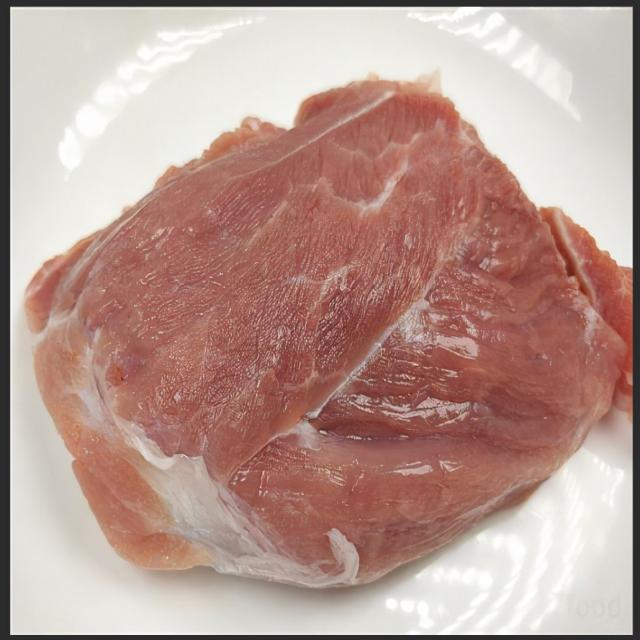pork: (32, 78, 625, 591)
